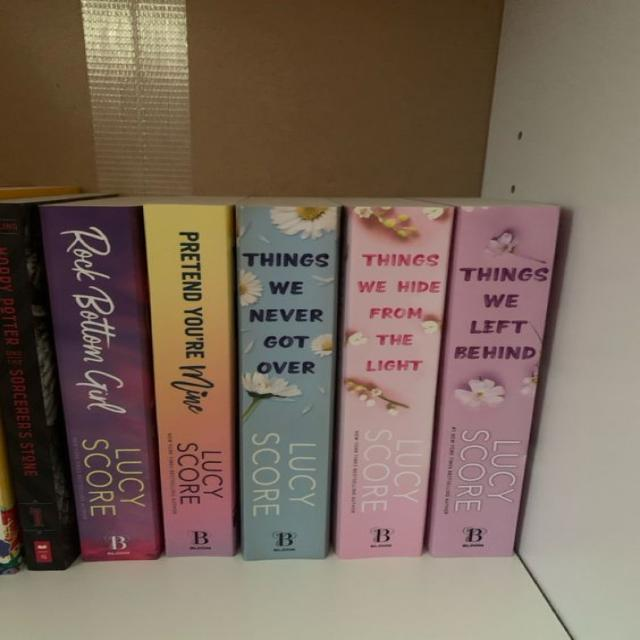book: (426, 205, 559, 557), (42, 208, 162, 561), (336, 206, 452, 558), (237, 206, 340, 561), (144, 205, 236, 556), (0, 198, 78, 573)
